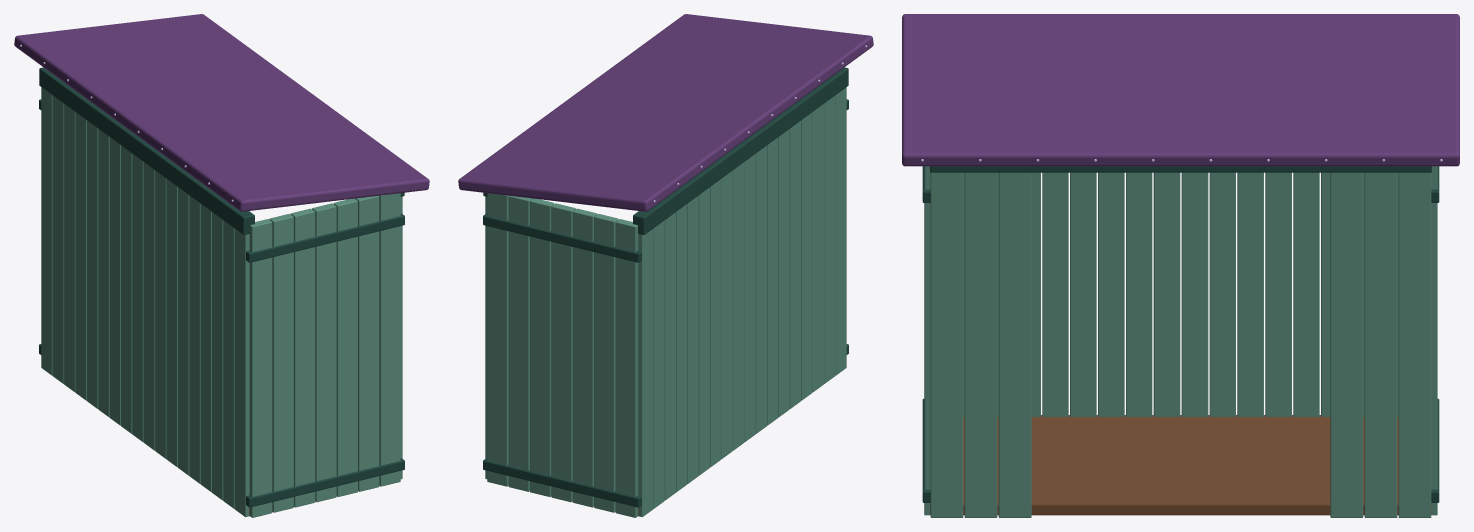
File: shed_shell.glb
3 renders of one model, left to right at view 1: azimuth 30°, elevation 25°; view 2: azimuth 150°, elevation 25°; view 3: azimuth 270°, elevation 25°, orthographic. The views are drawn at different scales.
Visible parts, largest first — view 1: Sloping_roof, End_plank.007, End_plank.009, End_plank.010, End_plank.008, End_plank.011, End_plank.012, End_plank.013, Header, Vertical_sage_board.017, Vertical_sage_board, Vertical_sage_board.001 (+18 smaller); view 2: Sloping_roof, End_plank, End_plank.002, End_plank.003, End_plank.001, End_plank.004, End_plank.005, End_plank.006, Header, Vertical_sage_board, Vertical_sage_board.002, Vertical_sage_board.004 (+18 smaller); view 3: Sloping_roof, Floor, Vertical_sage_board.018, Vertical_sage_board.023, Vertical_sage_board.019, Vertical_sage_board.020, Vertical_sage_board.021, Vertical_sage_board.022, Vertical_sage_board.008, Vertical_sage_board.009, Vertical_sage_board.004, Vertical_sage_board.005 (+11 smaller).
Part boxes in pixels (box(x1,y1,x2,y2)): Sloping_roof: box(14, 14, 429, 211); End_plank.007: box(249, 219, 272, 517); End_plank.009: box(290, 208, 315, 507); End_plank.010: box(312, 203, 336, 502); End_plank.008: box(269, 213, 293, 512); End_plank.011: box(333, 198, 357, 496); End_plank.012: box(355, 195, 379, 491); End_plank.013: box(379, 193, 400, 486); Header: box(39, 67, 254, 234); Vertical_sage_board.017: box(234, 229, 249, 517); Vertical_sage_board: box(41, 87, 52, 375); Vertical_sage_board.001: box(52, 95, 63, 383); Sloping_roof: box(458, 14, 873, 211); End_plank: box(615, 219, 638, 517); End_plank.002: box(572, 208, 597, 507); End_plank.003: box(551, 203, 575, 502); End_plank.001: box(594, 213, 618, 512); End_plank.004: box(530, 198, 554, 496); End_plank.005: box(508, 195, 532, 491); End_plank.006: box(487, 193, 508, 486); Header: box(633, 67, 848, 234); Vertical_sage_board: box(638, 229, 653, 517); Vertical_sage_board.002: box(664, 212, 675, 500); Vertical_sage_board.004: box(687, 195, 698, 483); Sloping_roof: box(902, 14, 1459, 166); Floor: box(930, 415, 1431, 515); Vertical_sage_board.018: box(1398, 172, 1431, 517); Vertical_sage_board.023: box(930, 172, 963, 517); Vertical_sage_board.019: box(1364, 172, 1397, 517); Vertical_sage_board.020: box(1330, 172, 1363, 517); Vertical_sage_board.021: box(998, 172, 1031, 517); Vertical_sage_board.022: box(964, 172, 997, 517); Vertical_sage_board.008: box(1181, 172, 1208, 416); Vertical_sage_board.009: box(1153, 172, 1180, 416); Vertical_sage_board.004: box(1293, 172, 1319, 416); Vertical_sage_board.005: box(1265, 172, 1291, 416).
Bounding box in the file's own units: 1.46 × 2.38 × 3.
